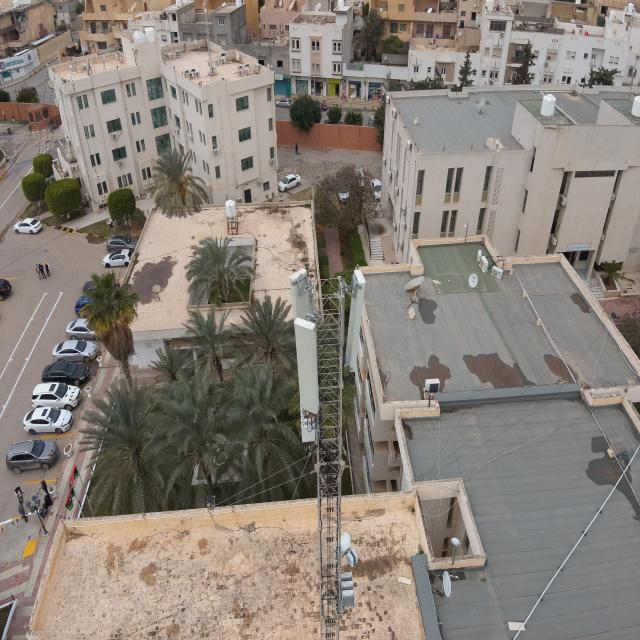antenna: (291, 316, 321, 414), (348, 268, 366, 368), (288, 264, 310, 316)
lighnig-rad: (310, 183, 320, 298)
microware-dish: (336, 529, 362, 569)
power-box: (338, 569, 357, 607)
radio-unit: (296, 408, 318, 446)
